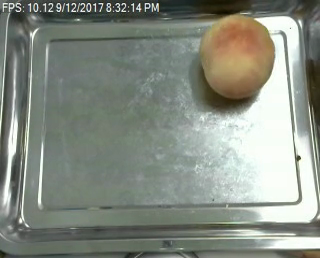Peach: (198, 13, 275, 98)
